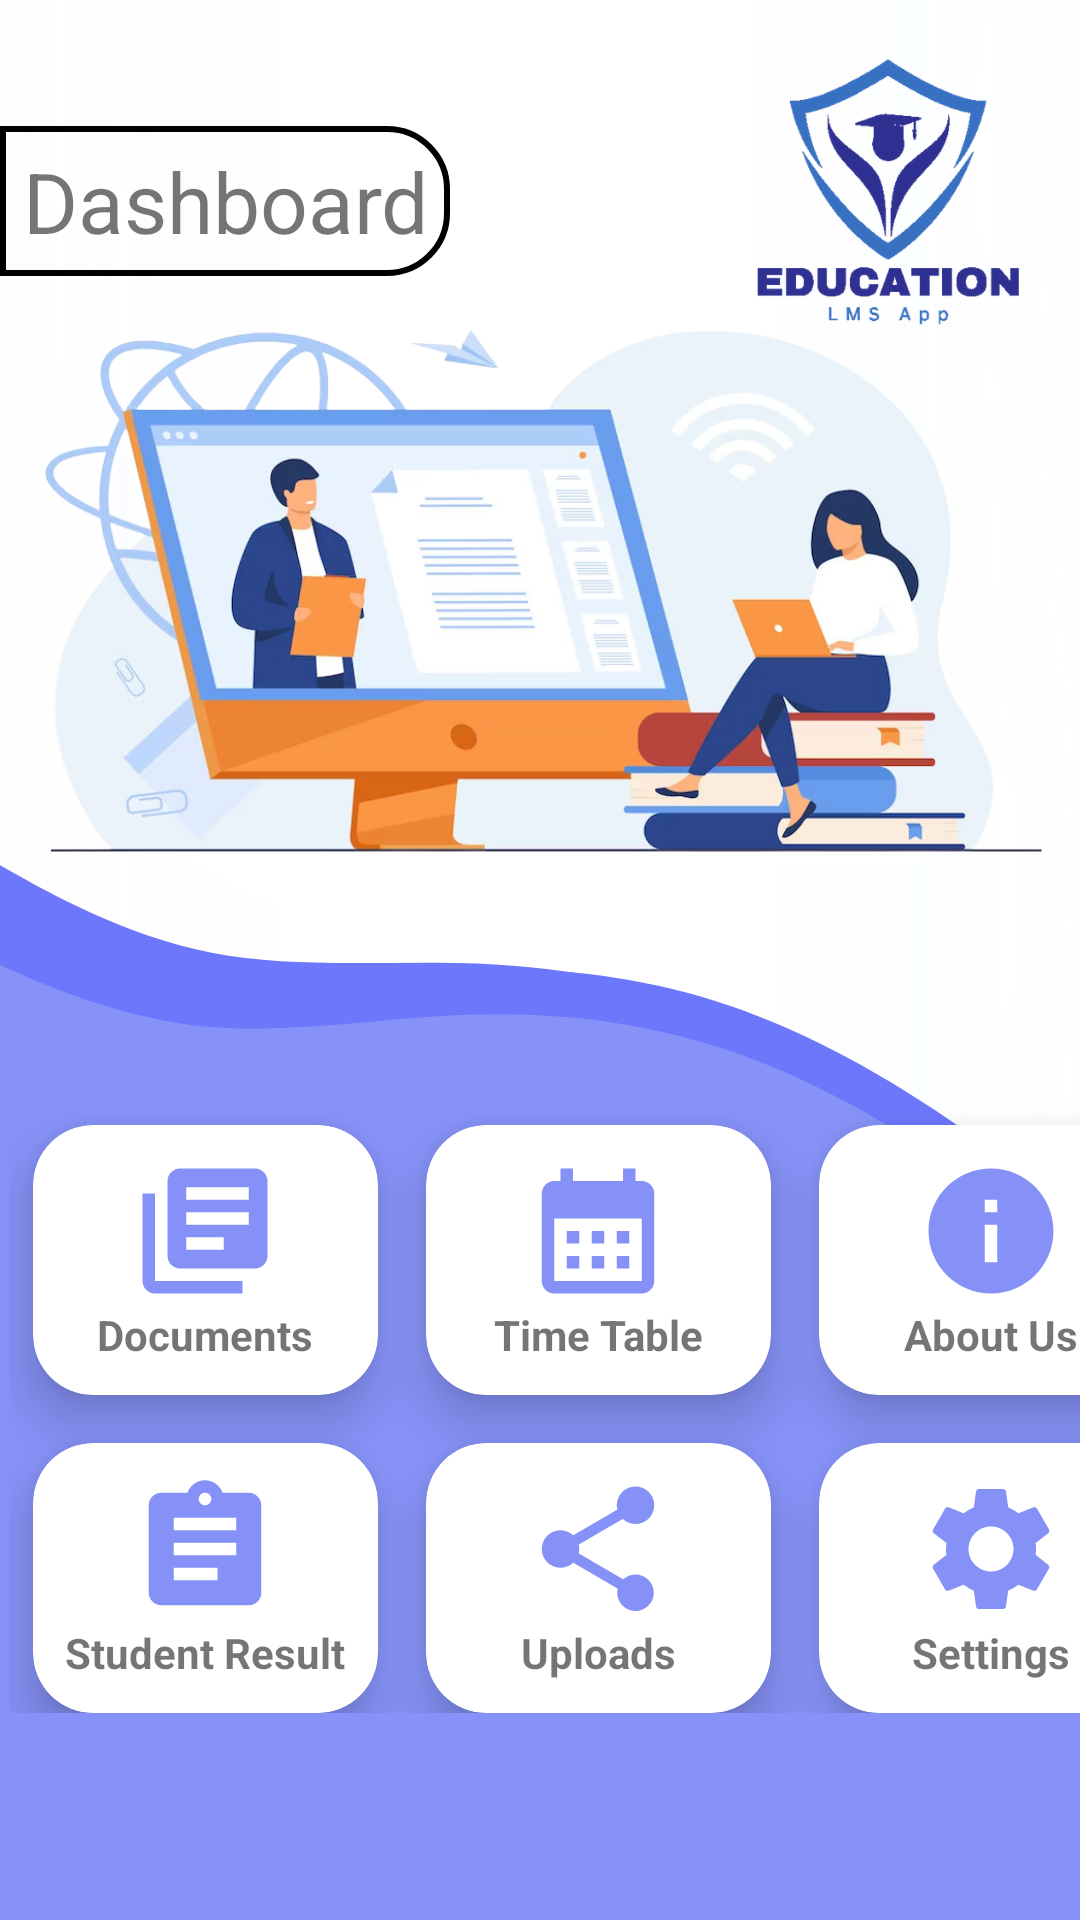

Icon bounding boxes for this 1080×1920 phone screenshot, format (x1, y1, x2, y2):
assignmet marks view: (148, 1480, 262, 1606)
calendar view: (541, 1168, 655, 1294)
share student: (541, 1486, 655, 1611)
